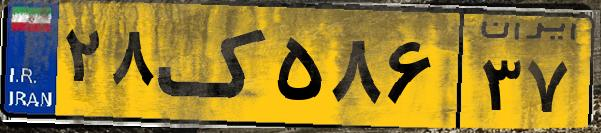2: (57, 26, 110, 100)
3: (475, 38, 525, 113)
5: (270, 28, 330, 110)
6: (385, 28, 445, 110)
7: (525, 38, 570, 115)
8: (330, 28, 385, 110), (110, 28, 158, 98)
ک: (158, 12, 270, 120)
